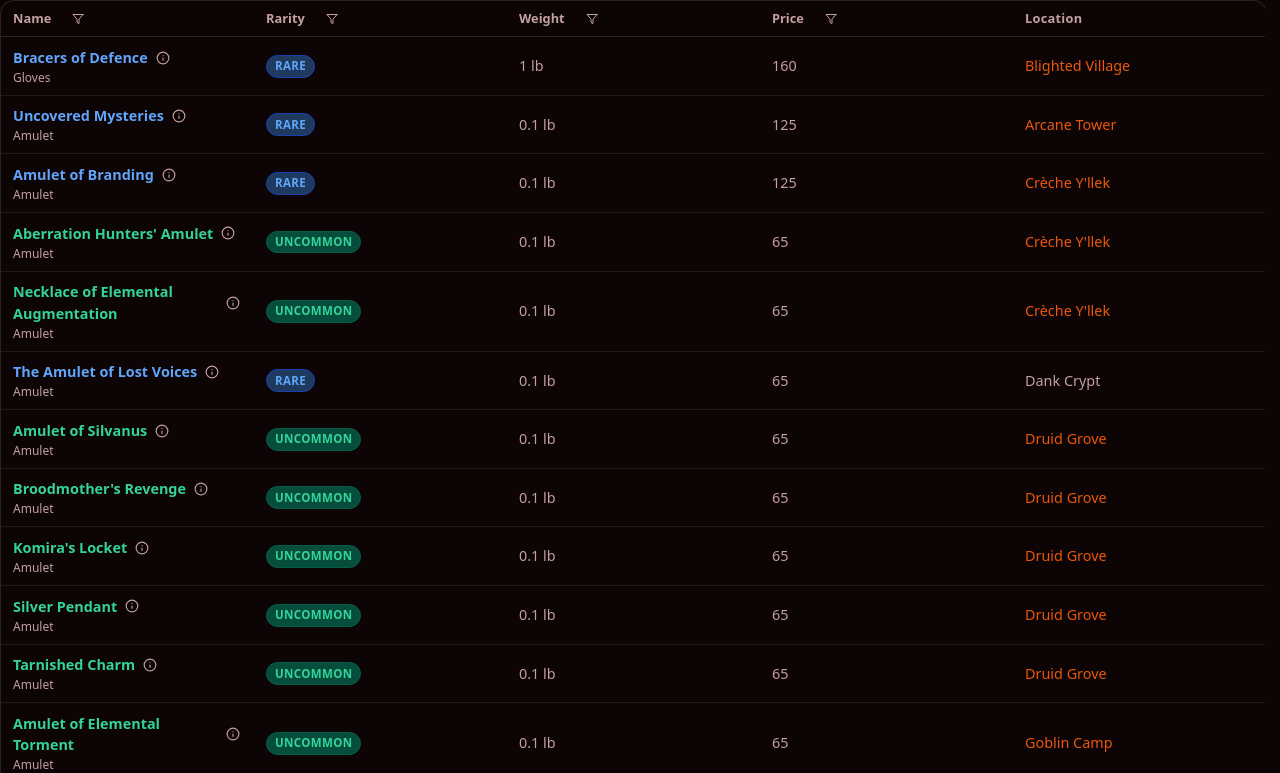
it: ActItemsTable › filters by price range via the price popover
// Open the price popover, set a minimum, and apply.
Click the button named "Filter by price". click: [831, 19]
box: [825,13,837,25]
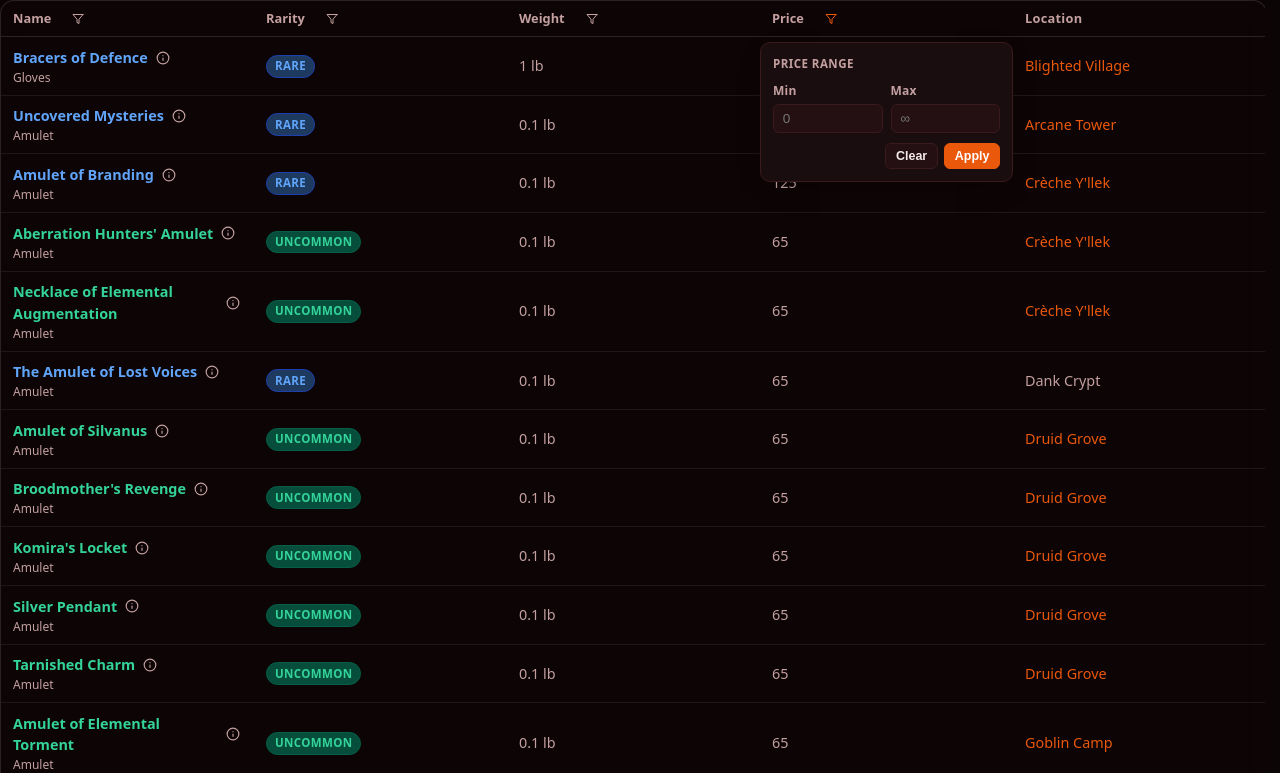
Type "130" into the number field with placeholder "0". click: [828, 118]
box: [773,104,882,133]
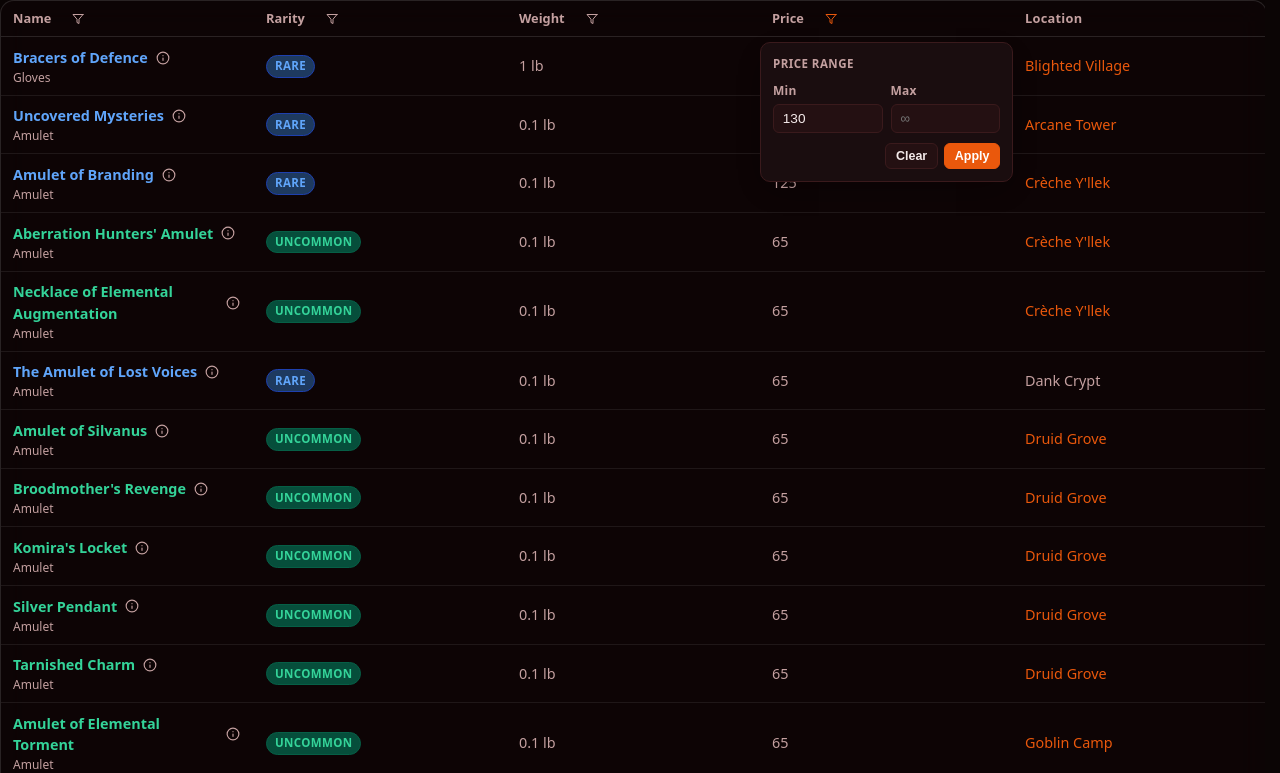
Click the button with class "btn-apply". click: [972, 156]
box: [944,143,1000,169]
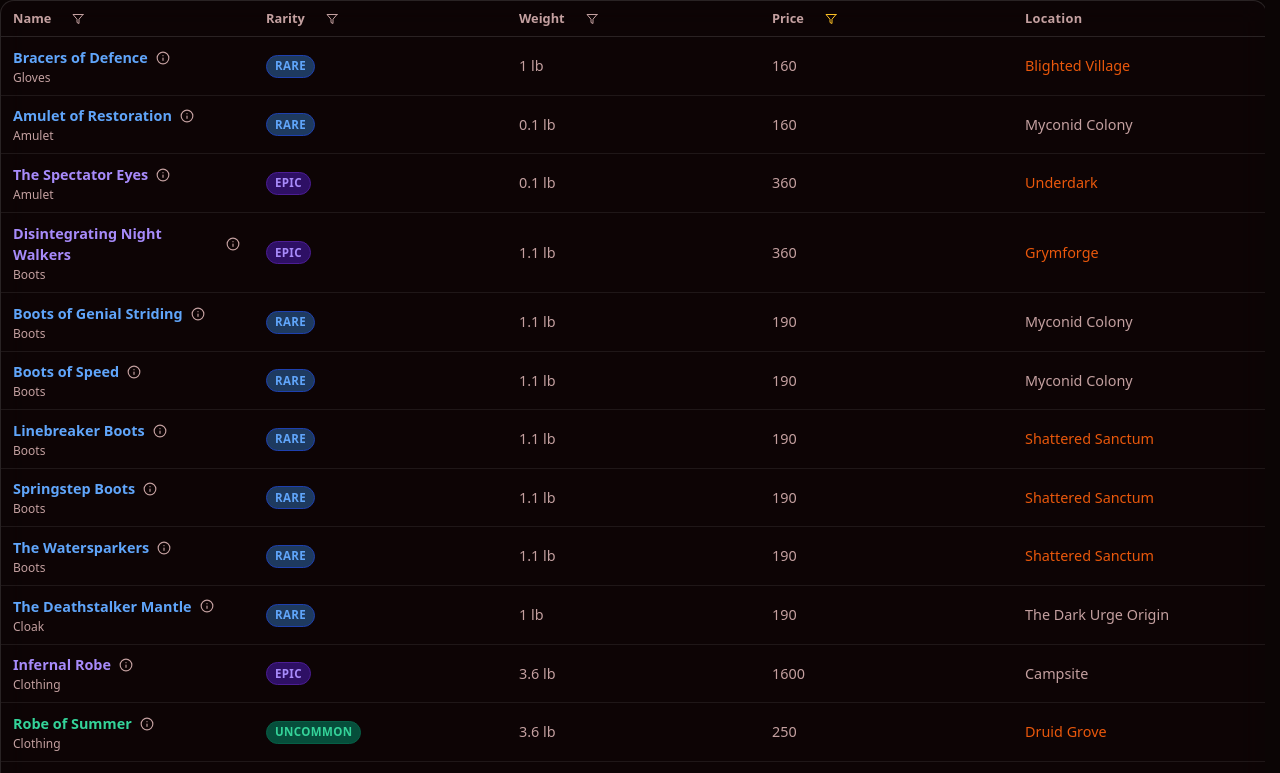
Expected: the text "Bracers of Defence" is shown, [13,47,148,68]
Expected: the text "Uncovered Mysteries" is gone
